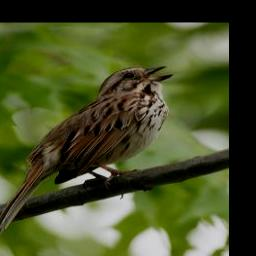Sparrow: (0, 62, 177, 237)
